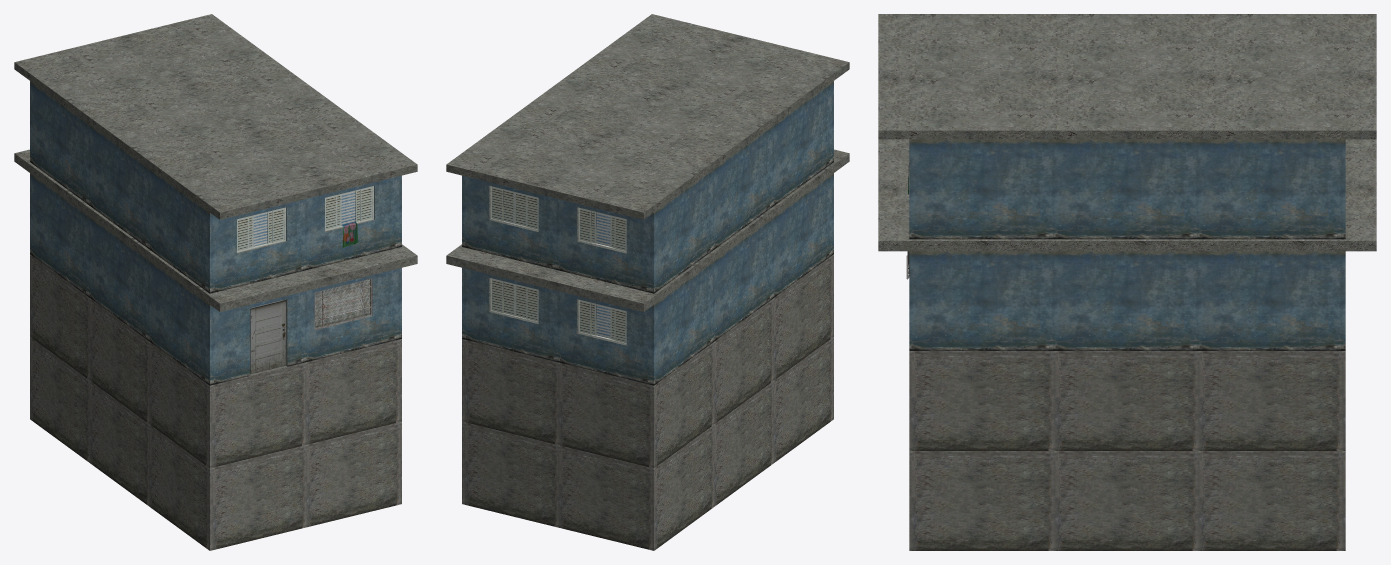
File: barraco_rds_68.obj
3 renders of one model, left to right at view 1: azimuth 30°, elevation 25°; view 2: azimuth 150°, elevation 25°; view 3: azimuth 270°, elevation 25°, orthographic. The views are drawn at different scales.
Parts seen in each view (by area): view 1: favela2; view 2: favela2; view 3: favela2.
Part boxes in pixels (bbox=[...]): favela2: bbox=[14, 14, 417, 550]; favela2: bbox=[446, 14, 849, 550]; favela2: bbox=[878, 14, 1376, 550].
Bounding box in the file's own units: 6.98 × 11.76 × 12.58.
Materials: 12 (12 with a texture image).
